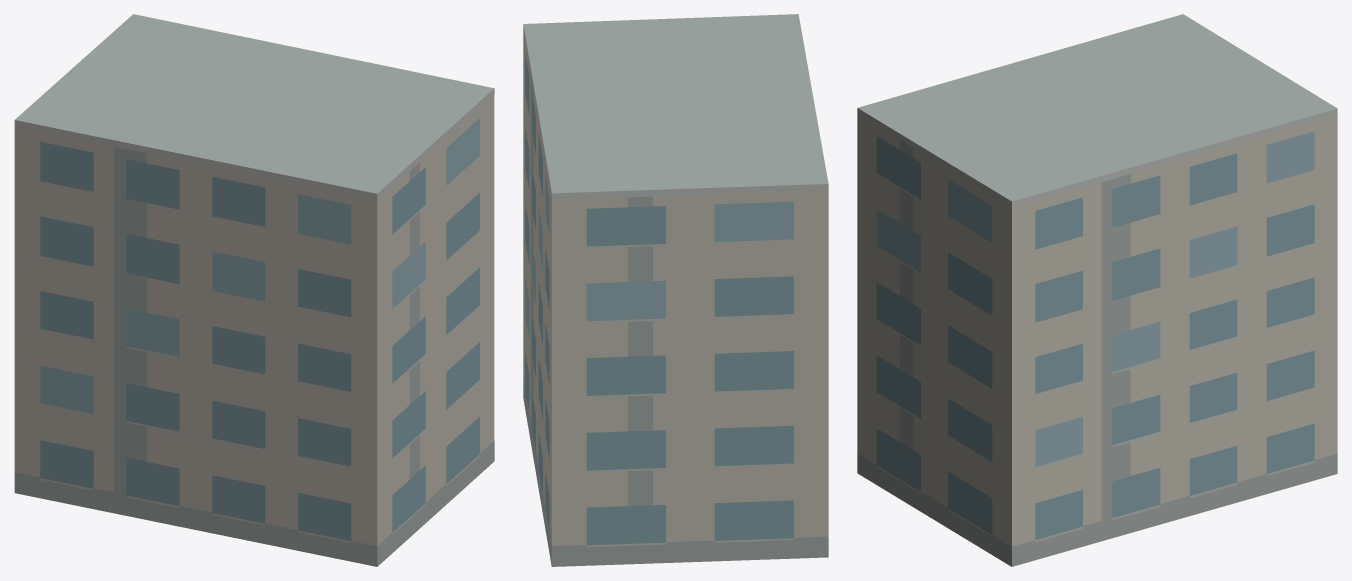
File: survey-upis-33010170.glb
3 renders of one model, left to right at view 1: azimuth 30°, elevation 25°; view 2: azimuth 150°, elevation 25°; view 3: azimuth 270°, elevation 25°, orthographic. The views are drawn at different scales.
Parts seen in each view (by area): view 1: survey-upis-33010170.tmp; view 2: survey-upis-33010170.tmp; view 3: survey-upis-33010170.tmp.
Boxes of the visible parts, left/top/right/bottom form: survey-upis-33010170.tmp: left=14, top=14, right=494, bottom=566; survey-upis-33010170.tmp: left=523, top=14, right=828, bottom=566; survey-upis-33010170.tmp: left=857, top=14, right=1337, bottom=566.
Bounding box in the file's own units: 15.2 × 13.8 × 16.45.
